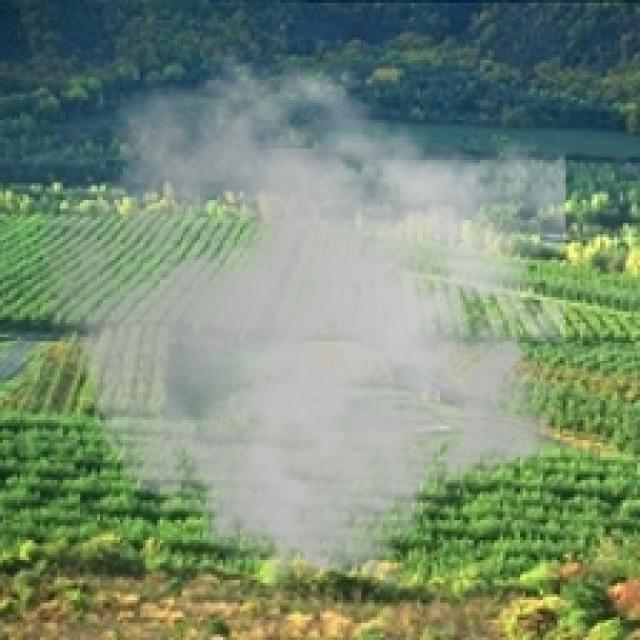smoke: (34, 46, 566, 597)
